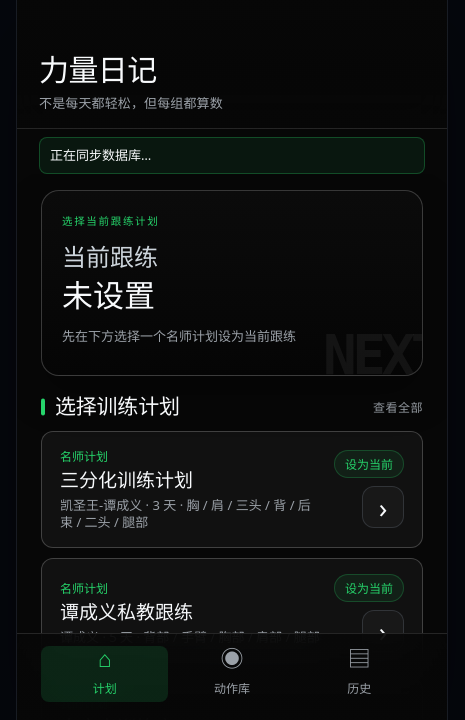
fitness PWA user flows › uses action-specific generated images instead of a generic placeholder
Click the button named "◉动作库": (232, 674) top-left (168, 646), bottom-right (296, 702)
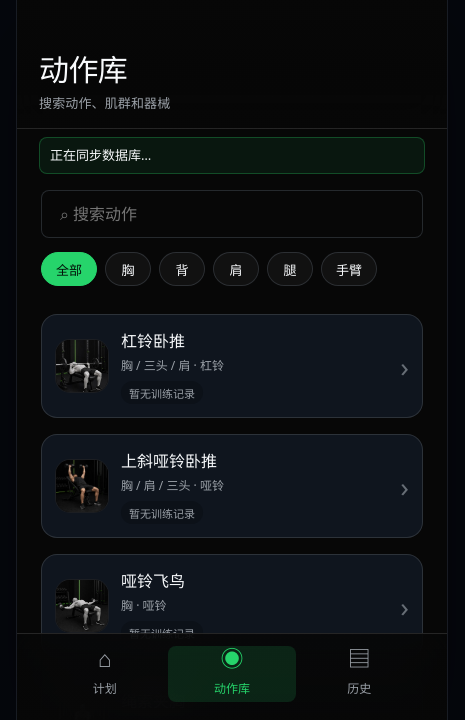
In the field with placeholder "⌕ 搜索动作": (232, 214) top-left (41, 190), bottom-right (423, 238), type "俯卧撑"
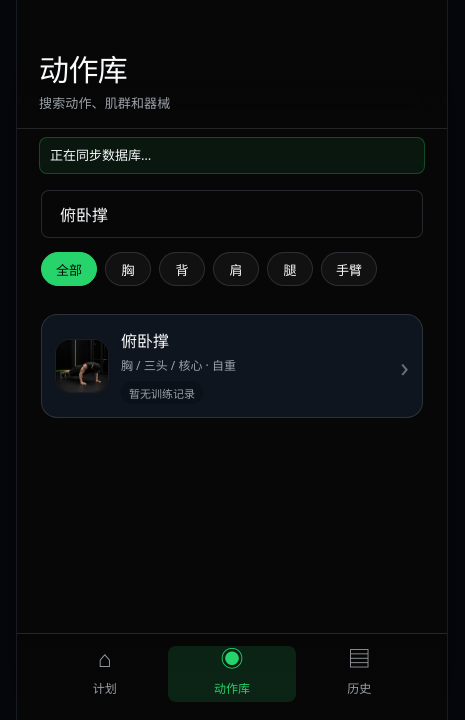
Click the button with aria-label "打开俯卧撑动作详情": (232, 366) top-left (41, 314), bottom-right (423, 418)
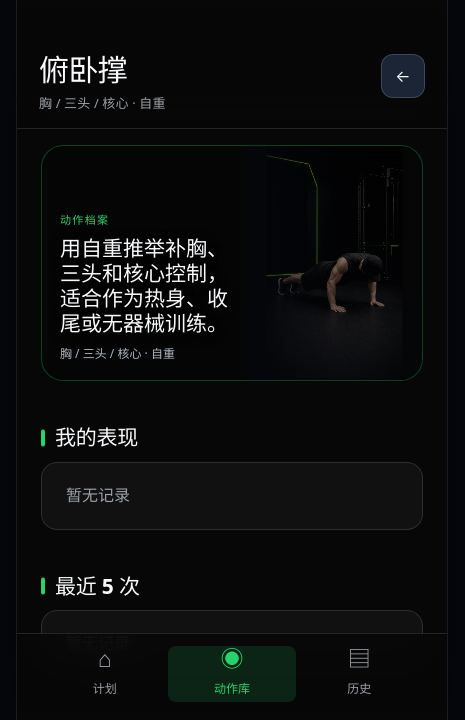
Result: the heading "用自重推举补胸、三头和核心控制，适合作为热身、收尾或无器械训练。" is shown at top-left (60, 236), bottom-right (248, 335)
